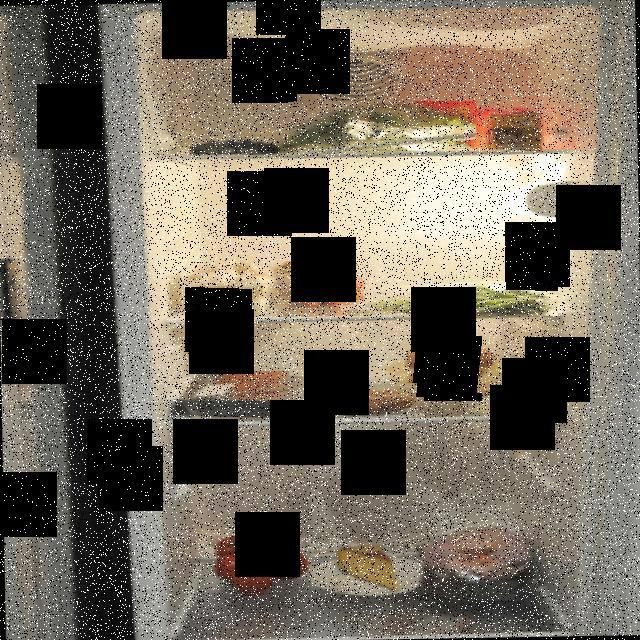beef: (190, 372, 290, 402)
blueberries: (178, 129, 282, 158)
butter: (418, 99, 514, 149)
cheese: (334, 538, 402, 594)
chicken: (415, 526, 542, 601)
corn: (488, 111, 544, 152)
green_beans: (376, 272, 558, 316)
mushrooms: (187, 258, 264, 314)
onion: (404, 338, 507, 393)
shrimp: (317, 383, 425, 421)
spinach: (288, 101, 477, 158)
strawberries: (274, 256, 366, 306)
tomato: (209, 534, 311, 597)
